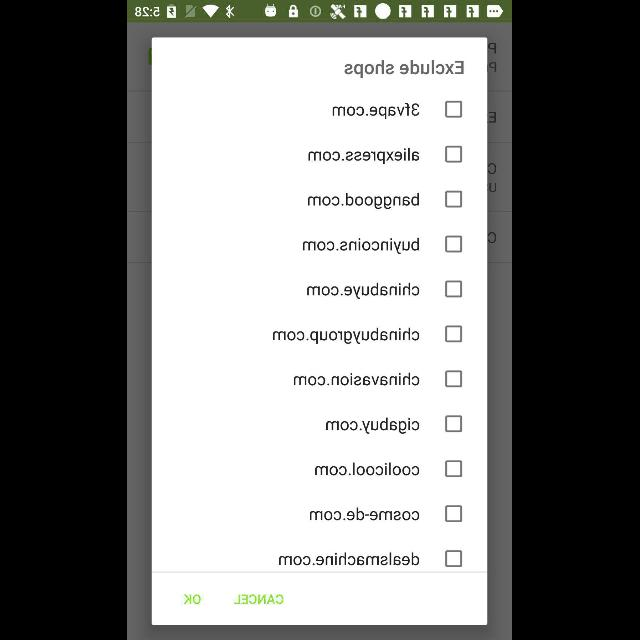checkbox: (446, 100, 464, 118), (446, 190, 464, 208), (446, 280, 464, 298), (446, 370, 464, 388), (446, 460, 464, 478), (446, 550, 464, 568), (446, 235, 464, 252), (446, 146, 464, 162), (446, 326, 464, 342), (446, 416, 464, 432), (446, 506, 464, 522)
panel: (152, 38, 488, 624)
text: (346, 60, 464, 78), (308, 282, 420, 300), (308, 192, 419, 210), (304, 238, 420, 255), (280, 552, 420, 566), (308, 328, 420, 344), (294, 372, 420, 386), (310, 148, 420, 164), (334, 102, 421, 120), (326, 418, 419, 434), (316, 462, 420, 476), (310, 508, 420, 520), (234, 594, 284, 604), (184, 594, 202, 604)
textbutton: (234, 594, 284, 604)
uppertaskbar: (128, 1, 512, 23)
